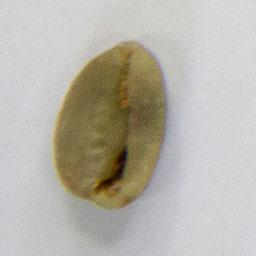longberry: (47, 37, 174, 215)
